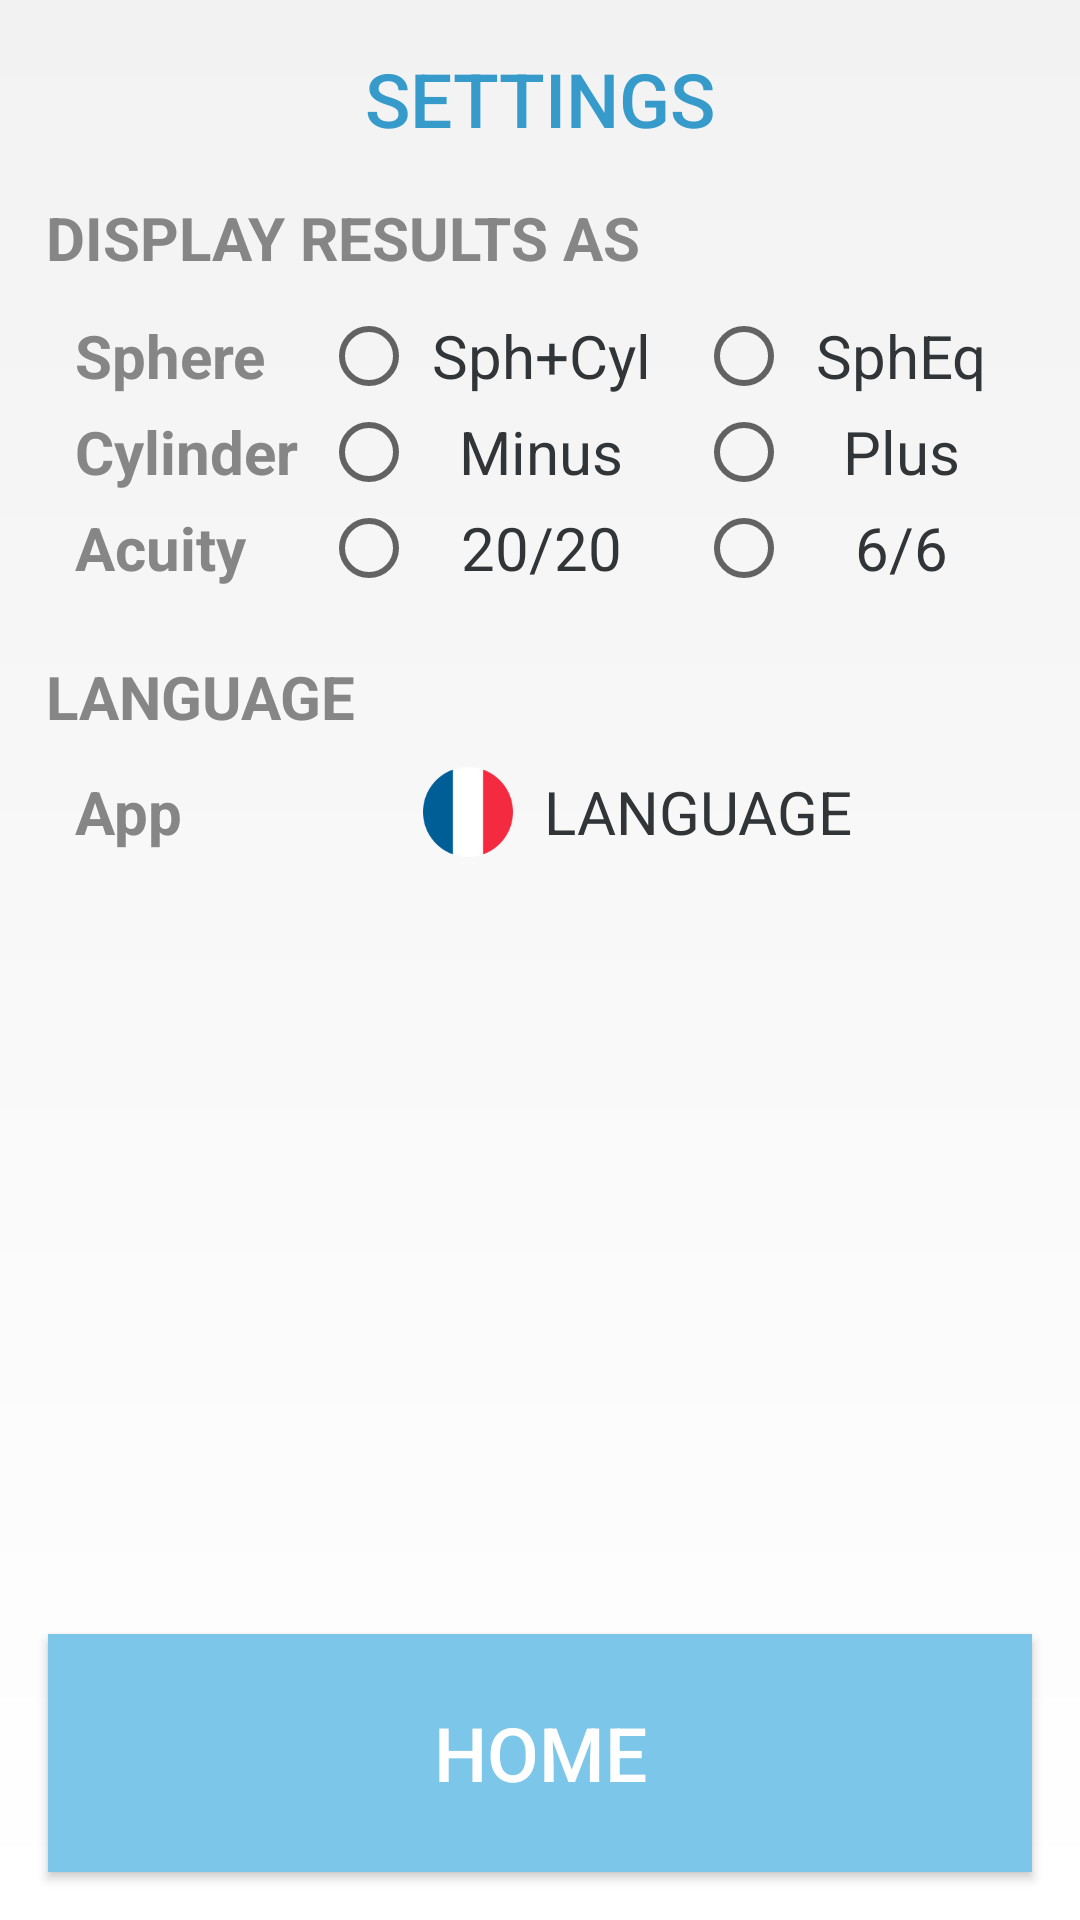

Screen size 1080*1920. Icon name, then its center in pixels as (x=x, y=y):
france: (x=468, y=812)
